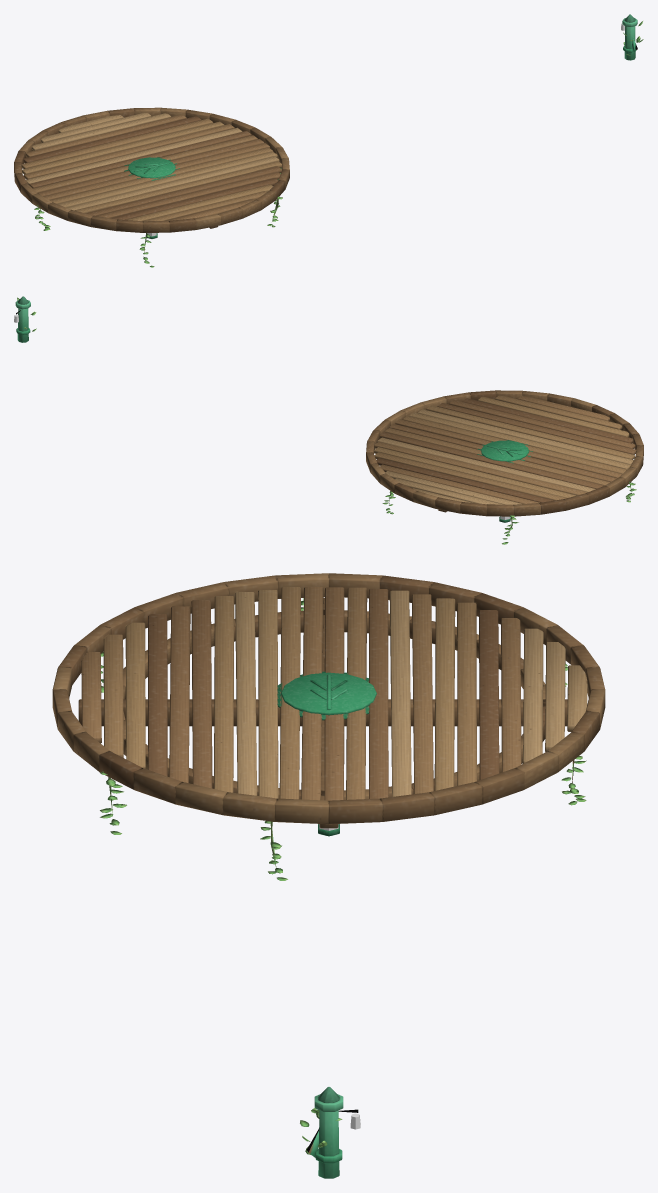
The model's file is JadeBridgeExtra.fbx.
3 renders of one model, top to bottom at view 1: azimuth 30°, elevation 25°; view 2: azimuth 150°, elevation 25°; view 3: azimuth 270°, elevation 25°, orthographic. The views are drawn at different scales.
Parts seen in each view (by area): view 1: JadeLanding, JadePost; view 2: JadeLanding, JadePost; view 3: JadeLanding, JadePost.
Part boxes in pixels (<box>): JadeLanding: <box>14,107,289,267</box>; JadePost: <box>622,14,643,60</box>; JadeLanding: <box>366,390,643,544</box>; JadePost: <box>15,296,36,342</box>; JadeLanding: <box>52,573,605,880</box>; JadePost: <box>300,1087,358,1178</box>.
Size of the model in its own units: 76.68 by 12.65 by 30.04.
Materials: 2 (1 with a texture image).
